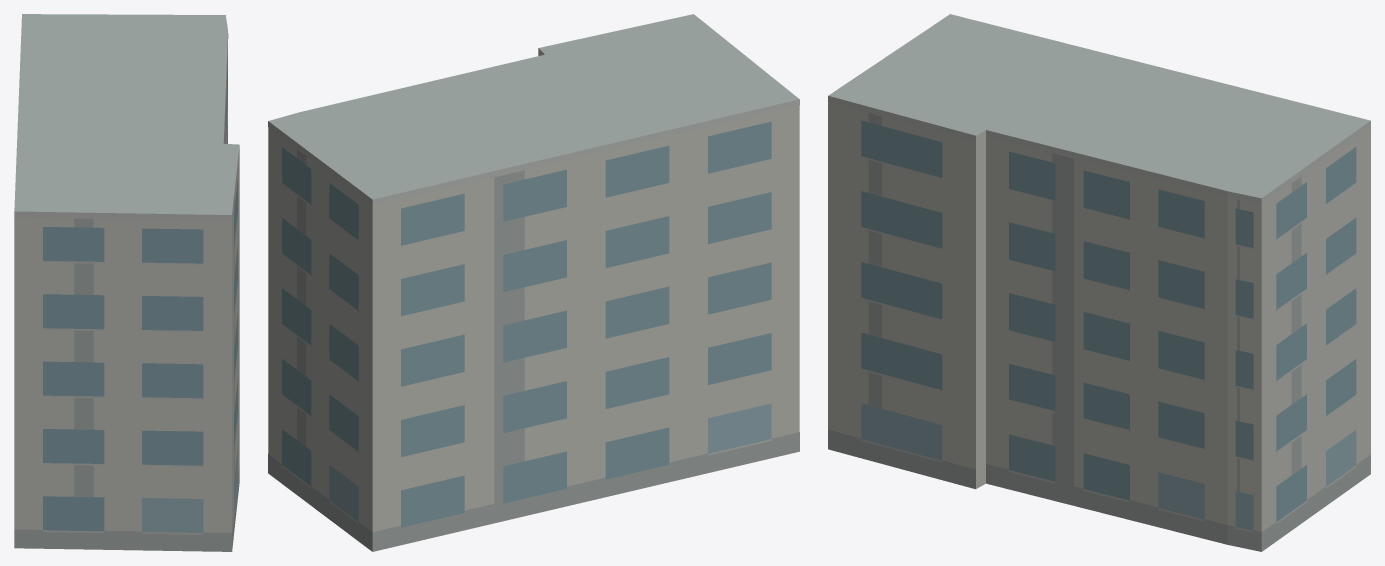
Rendered from survey-upis-32787669.glb.
The picture shows the model from 3 angles, left to right: view 1: azimuth 30°, elevation 25°; view 2: azimuth 150°, elevation 25°; view 3: azimuth 270°, elevation 25°; orthographic projection. The views are drawn at different scales.
Visible parts, largest first — view 1: survey-upis-32787669.tmp; view 2: survey-upis-32787669.tmp; view 3: survey-upis-32787669.tmp.
Boxes of the visible parts, x1,y1,x2,y2 form: survey-upis-32787669.tmp: [14, 14, 239, 551]; survey-upis-32787669.tmp: [268, 14, 799, 551]; survey-upis-32787669.tmp: [828, 14, 1370, 551].
Size of the model in its own units: 15.05 by 13.45 by 18.72.
